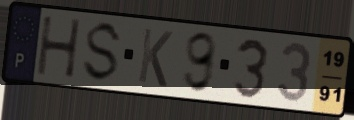3: (230, 35, 270, 100), (275, 39, 313, 105)
9: (179, 30, 221, 95)
H: (35, 14, 84, 80)
K: (135, 25, 175, 90)
S: (79, 19, 126, 85)
